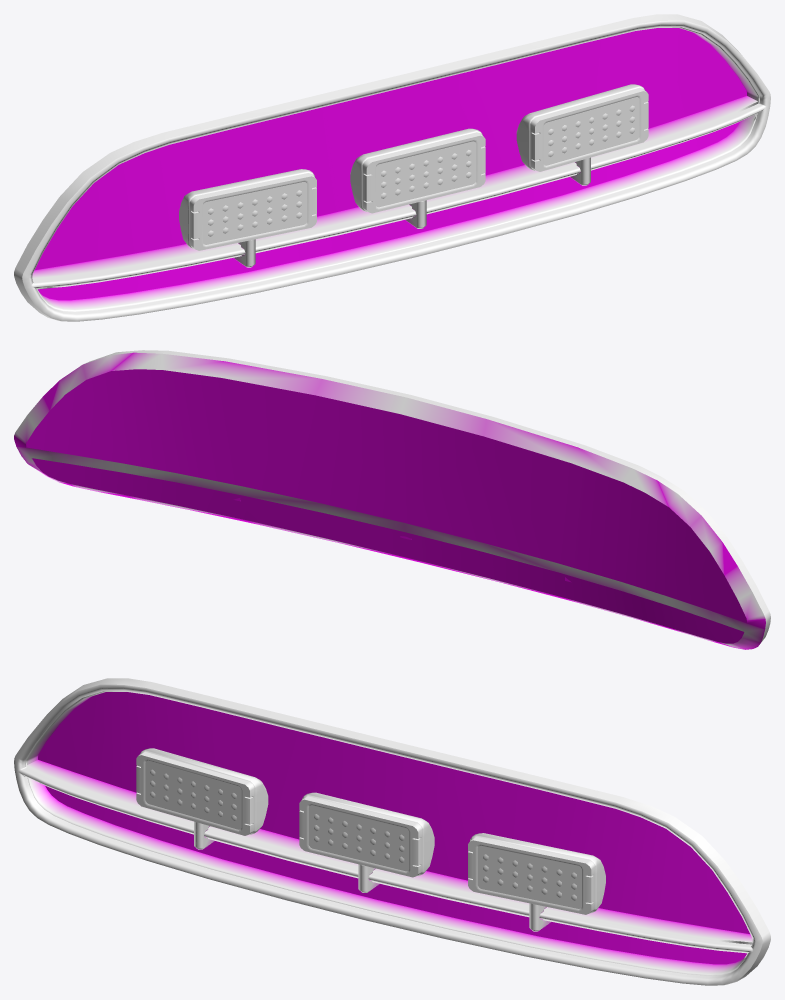
The model's file is Car_Mini_CountrymanJCW_2017_Grille_SetD.fbx.
The picture shows the model from 3 angles, top to bottom: view 1: azimuth 30°, elevation 25°; view 2: azimuth 150°, elevation 25°; view 3: azimuth 330°, elevation 25°; orthographic projection.
Parts seen in each view (by area): view 1: Grille 6; view 2: Grille 6; view 3: Grille 6.
Part boxes in pixels (x1,y1,x2,y2): Grille 6: (14, 14, 770, 321); Grille 6: (14, 350, 770, 649); Grille 6: (14, 678, 770, 985).
Size of the model in its own units: 1.07 by 0.2353 by 0.0993.
